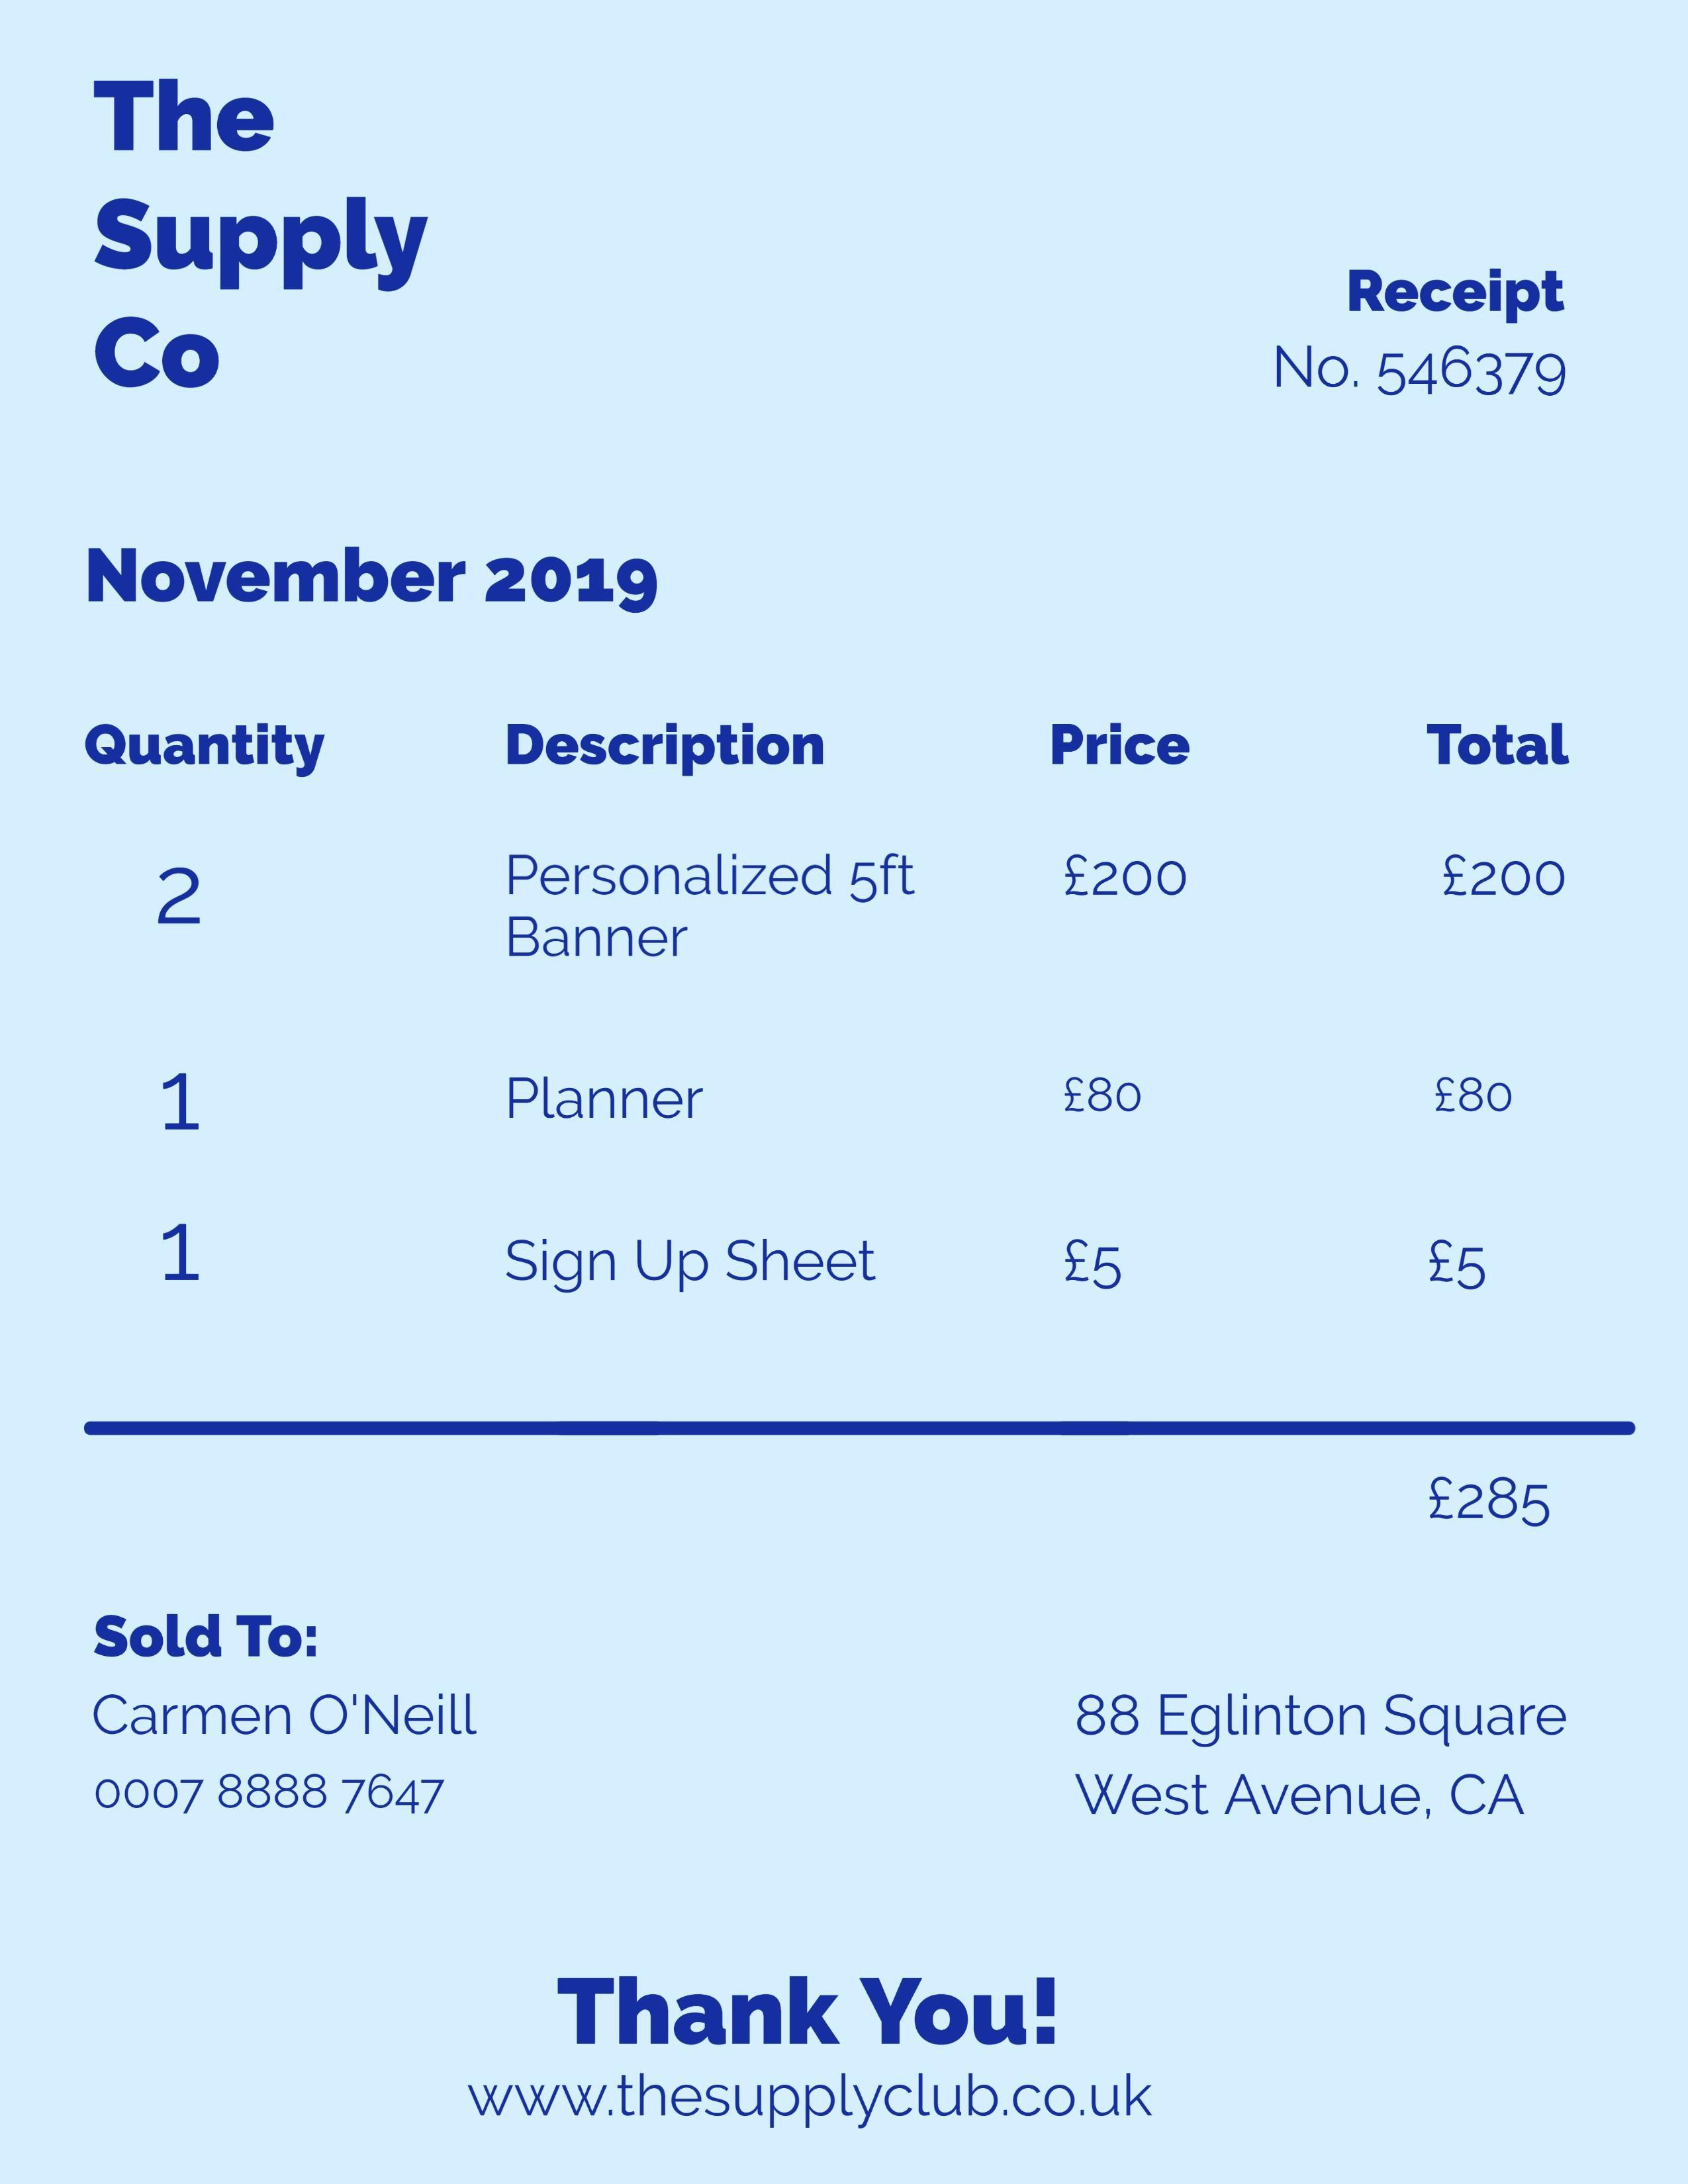ROI: (46, 702, 1655, 1436), (76, 63, 483, 417), (76, 1595, 539, 1856), (1254, 245, 1605, 417), (1387, 1456, 1595, 1552)
